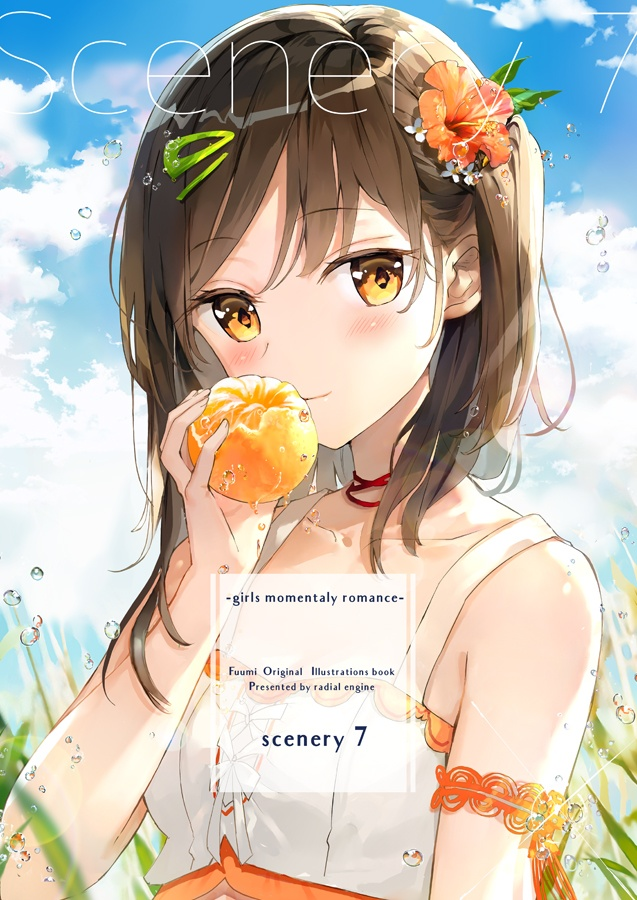纸片人正脸: (119, 1, 550, 474)
